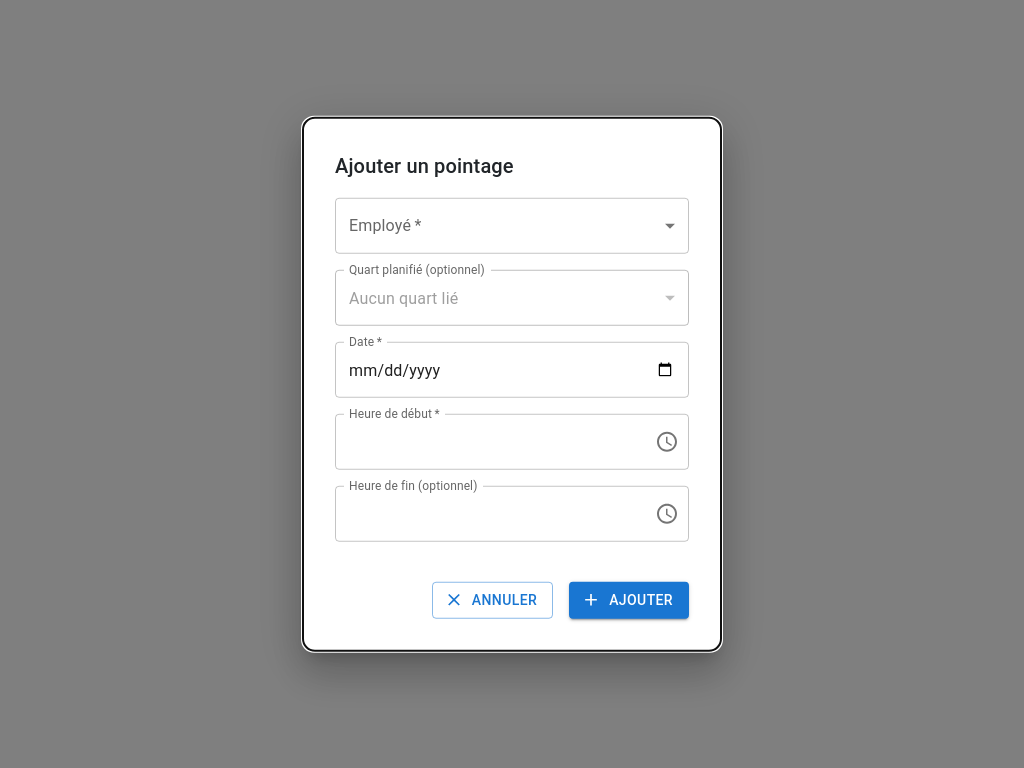
TimeEntryForm › should render employee and scheduled shift options from mocked queries
Expected: the heading "Ajouter un pointage" is shown, [335,154,514,178]
Click the dropdown named "employé".
click(512, 226)  # box [335,198,689,254]
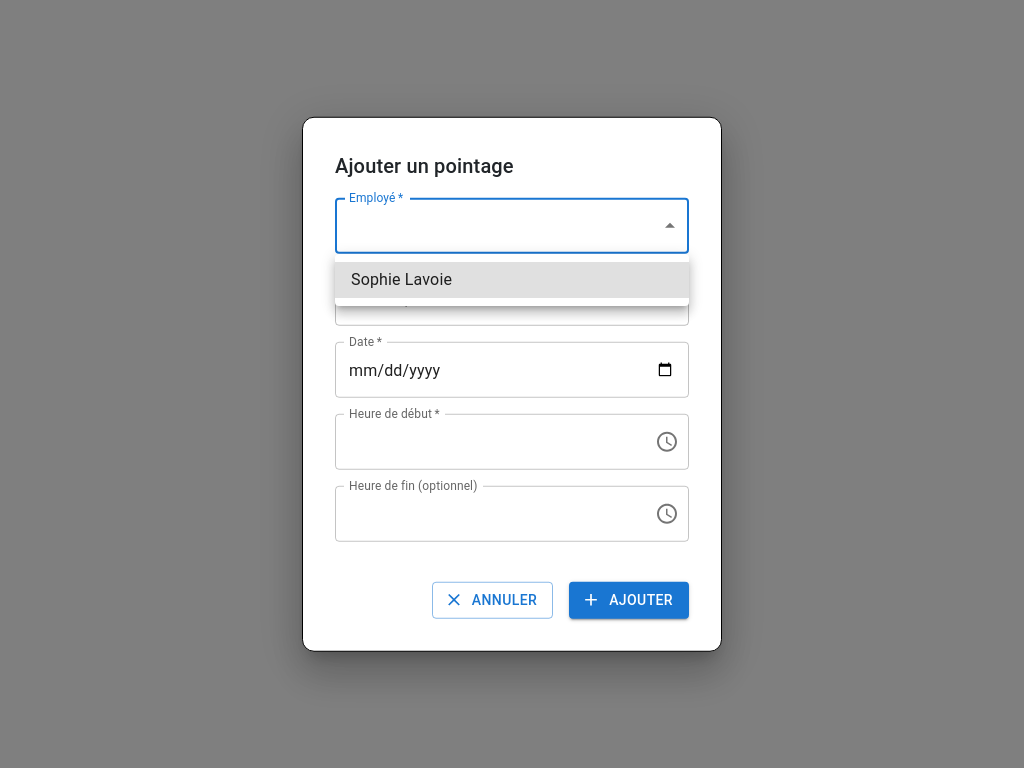
Now the option "Sophie Lavoie" is shown, box [335,262,689,298]
Press Escape
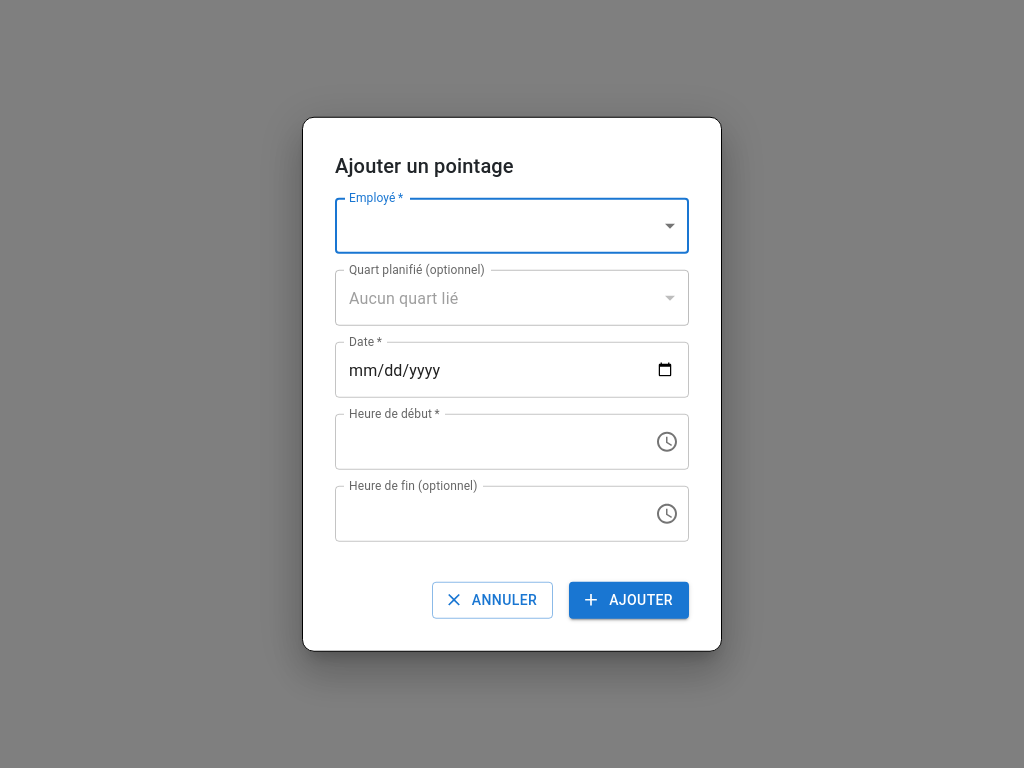
Click the dropdown named "employé".
click(512, 226)  # box [335,198,689,254]
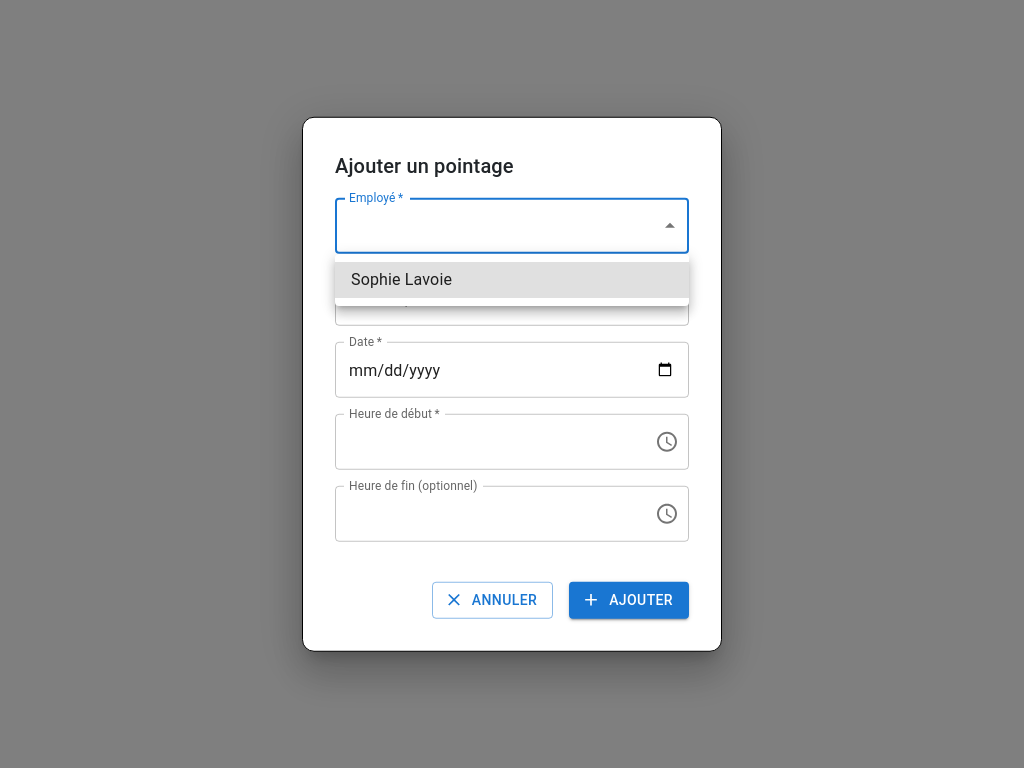
Click the option "Sophie Lavoie".
click(402, 280)  # box [335,262,689,298]
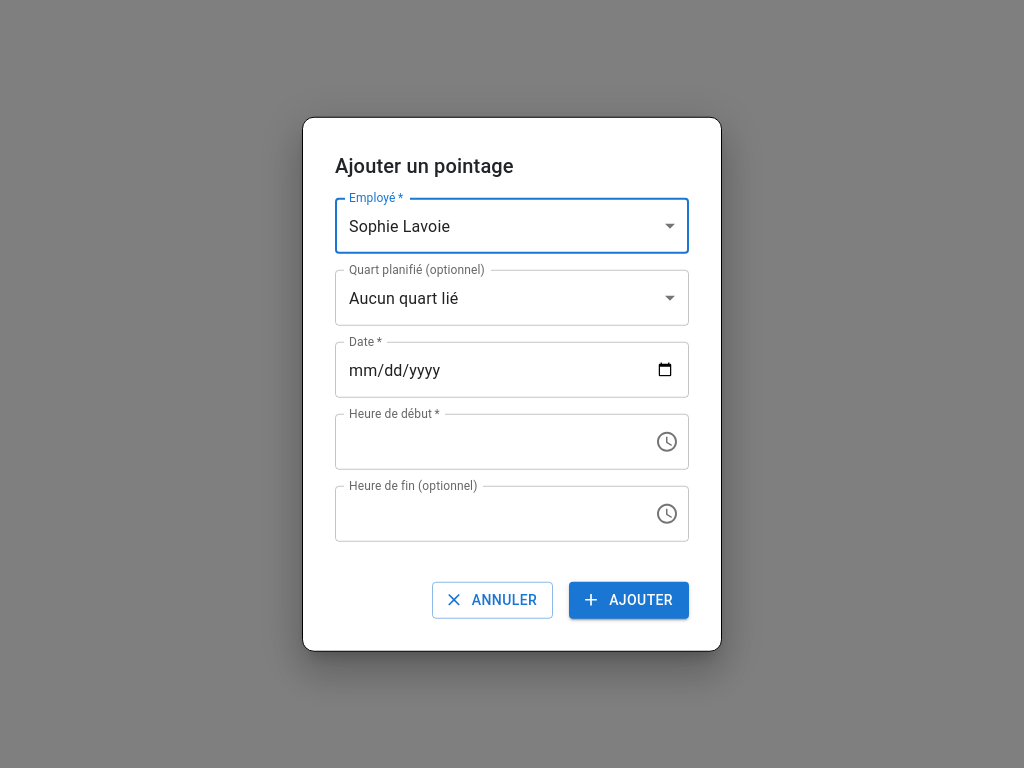
Click the dropdown named "quart planifié".
click(404, 298)  # box [349,288,458,307]
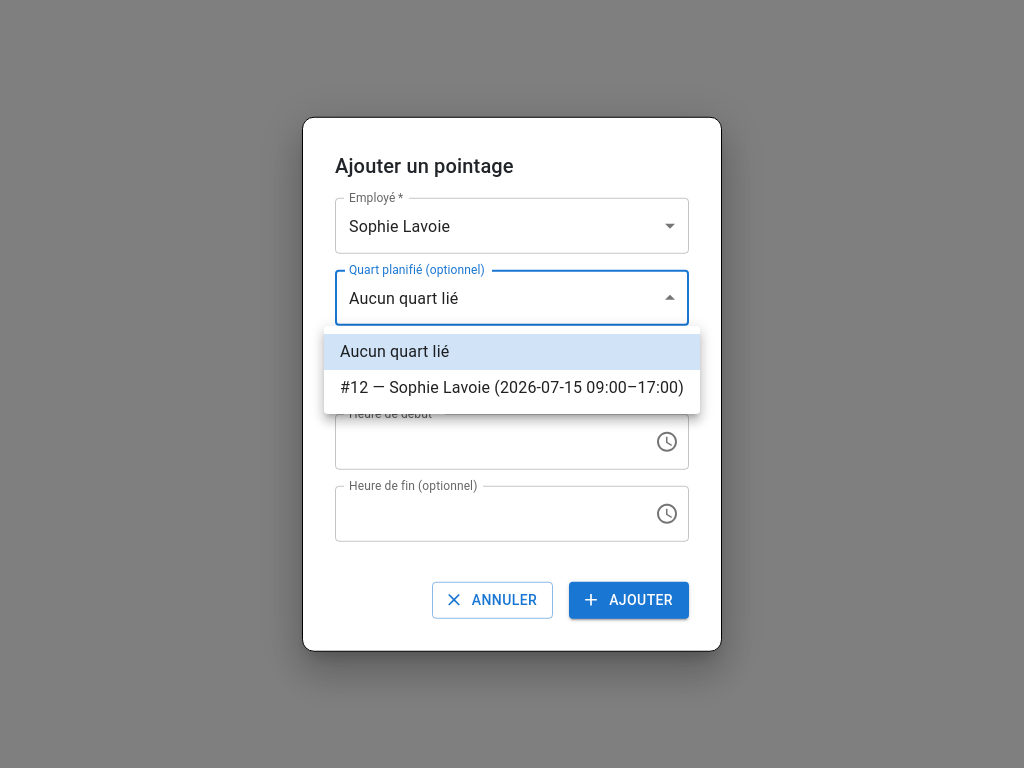
Now the option "Aucun quart lié" is shown, box [324,334,700,370]
Now the option "#12 — Sophie Lavoie (2026-07-15 09:00–17:00)" is shown, box [340,378,684,397]
